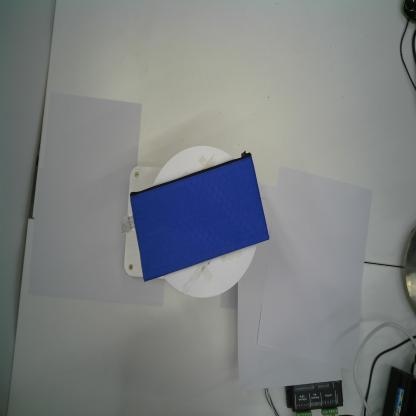Stationery: (130, 149, 270, 283)
